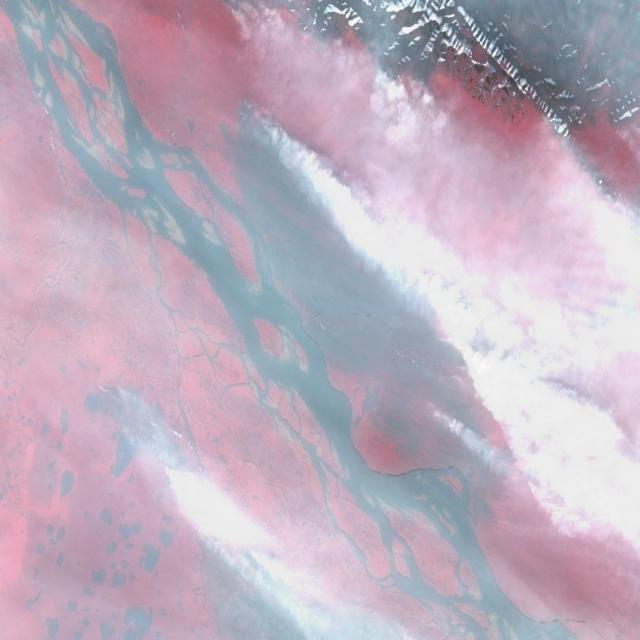fire: (228, 94, 512, 418), (224, 0, 316, 35)
